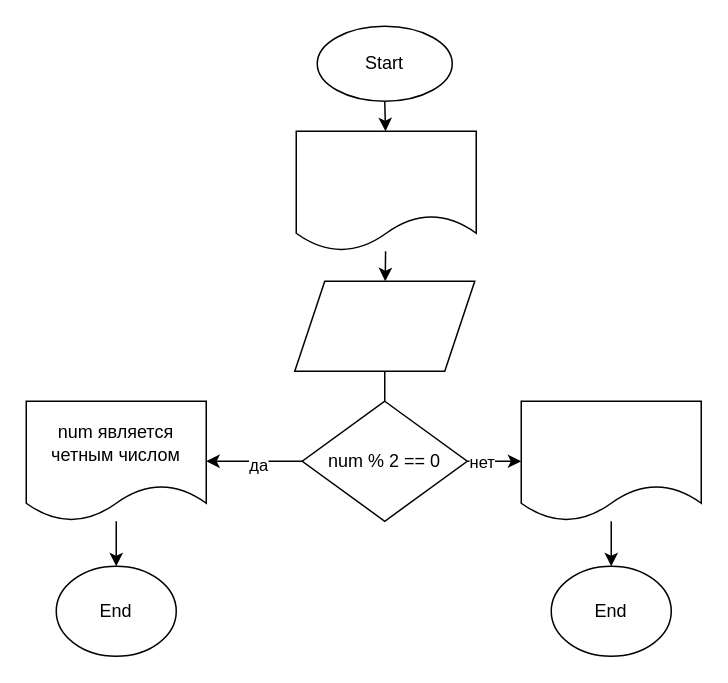
Image size: 728x683. Some labels were removed from this diagram. Here are the shapes that lost their labels. From the top down, the centre of each, then its label:
the point at 385,190: Ведите натуральное число
the point at 384,325: int num
the point at 610,460: num не является четным числом
